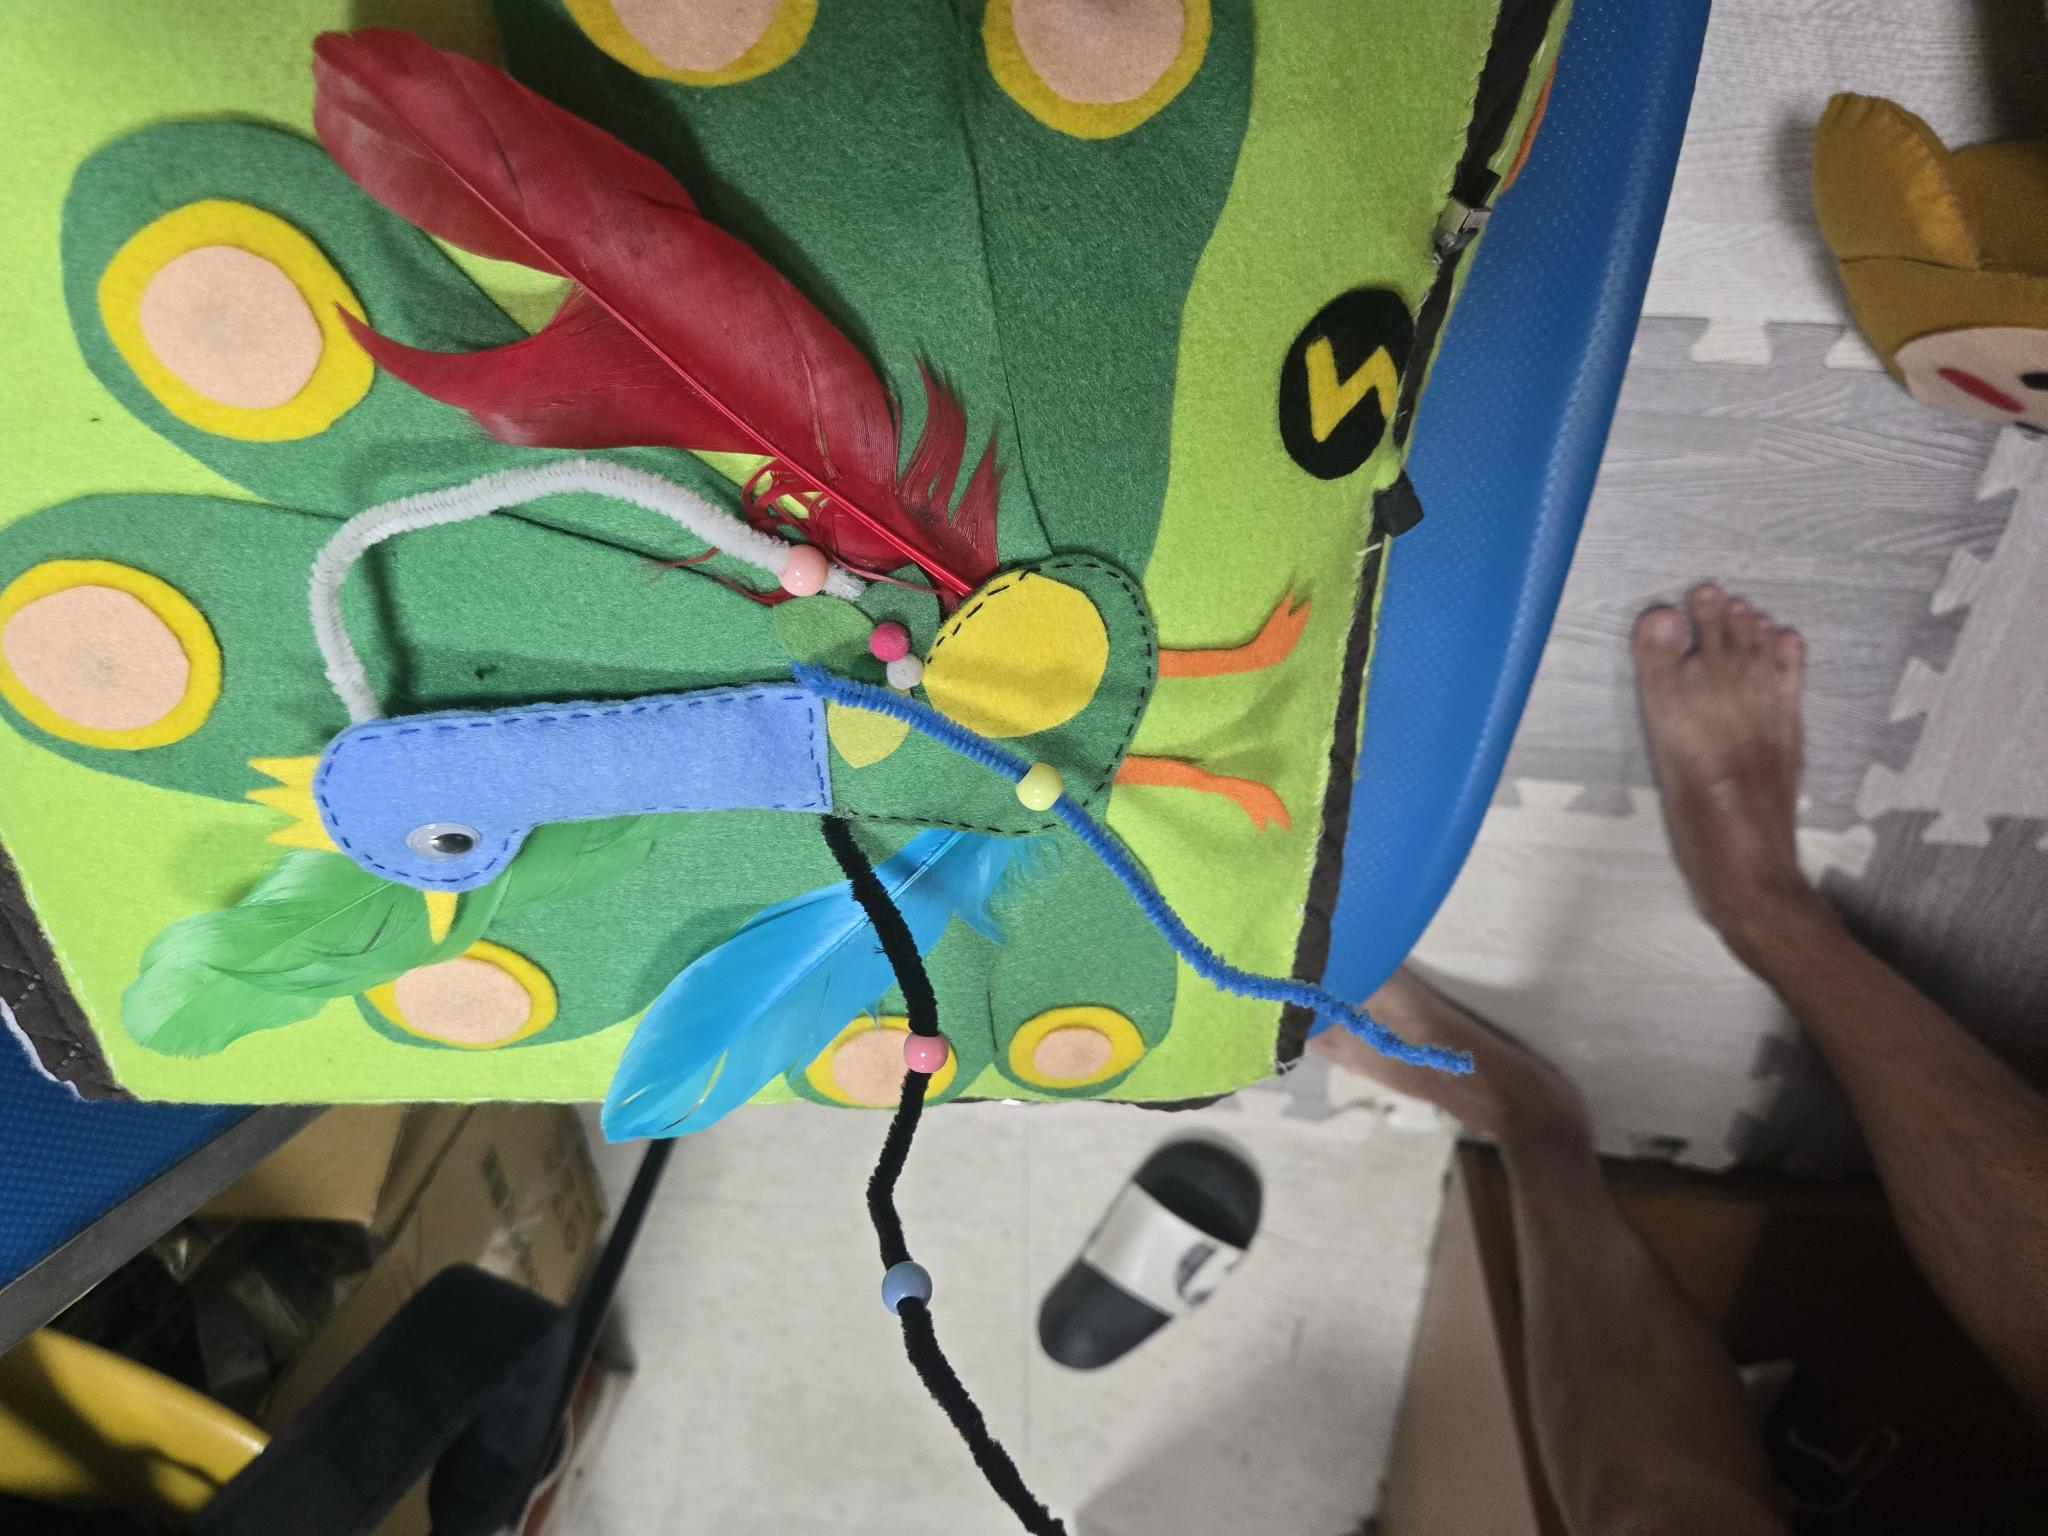bead: (863, 1244, 943, 1328), (892, 1013, 958, 1092), (1001, 749, 1071, 820), (769, 532, 835, 607)
